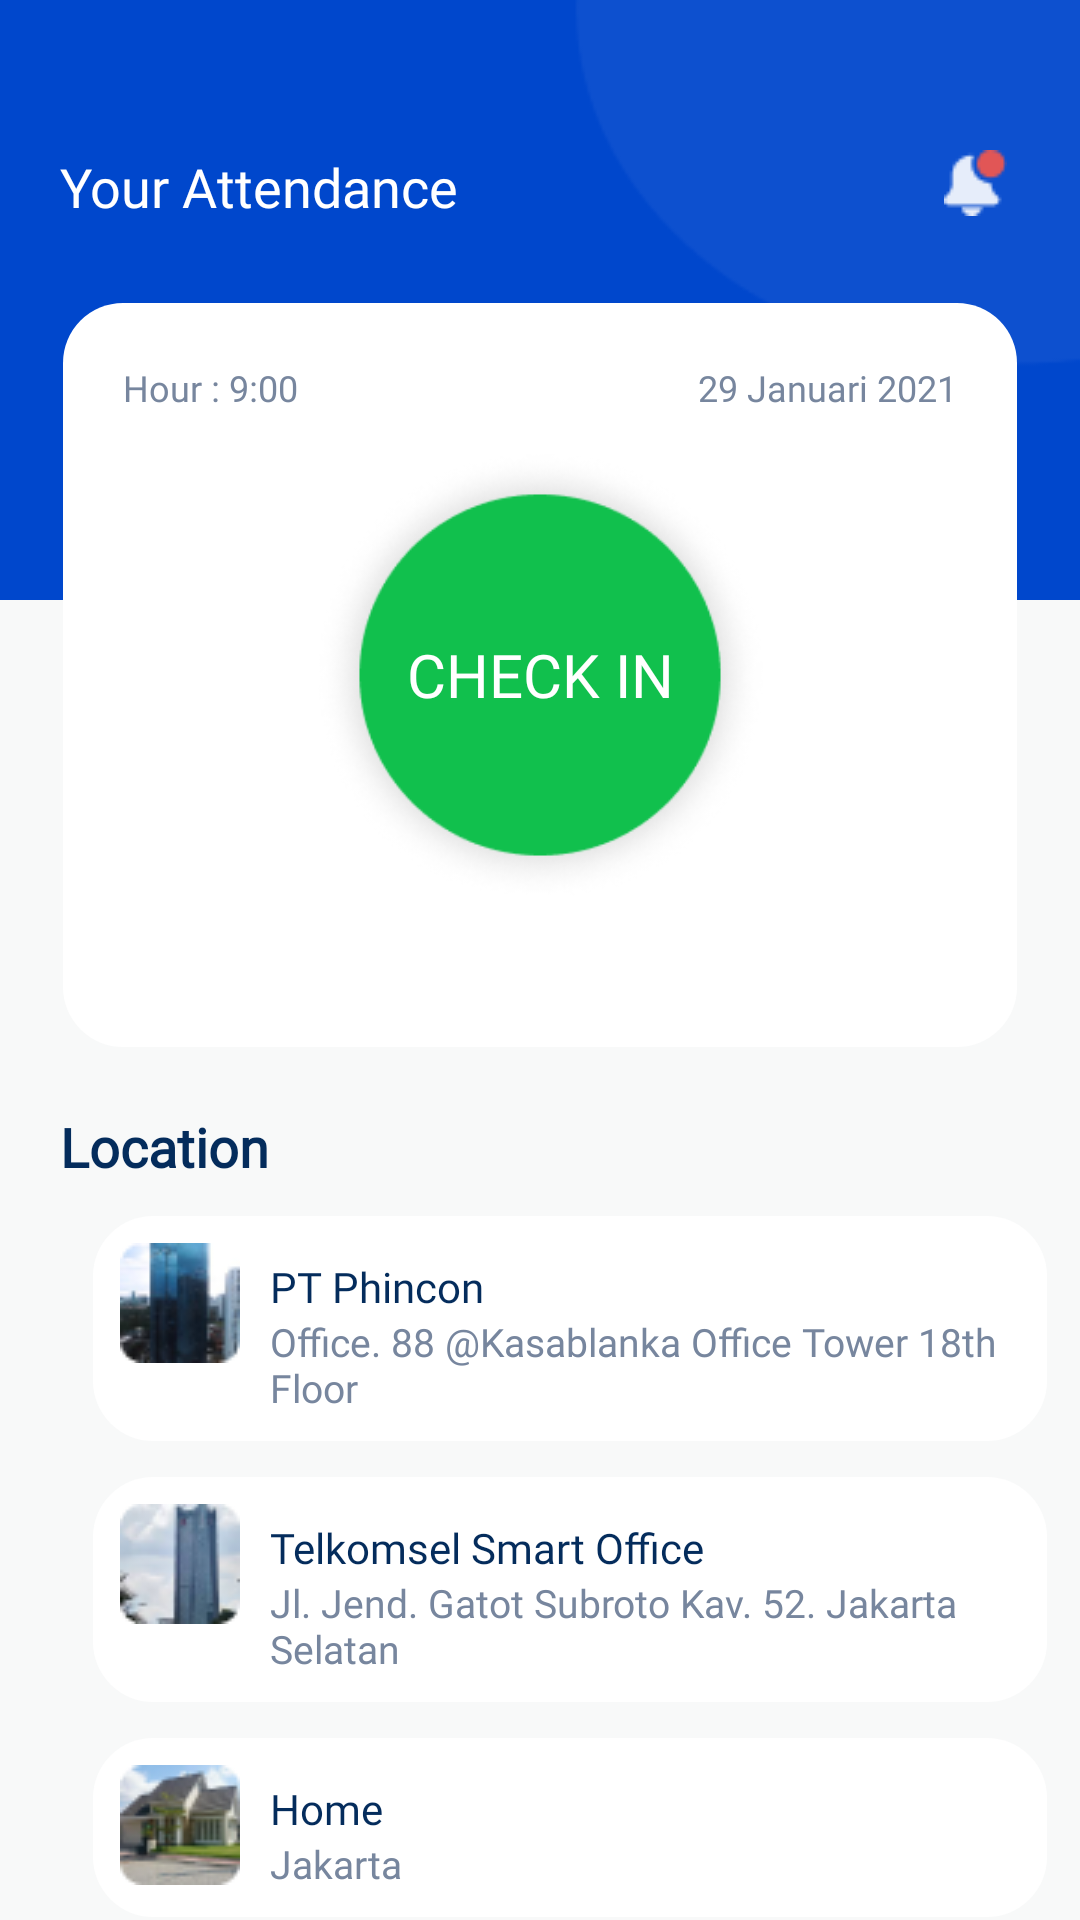

Where to tap for icons on this 1080 × 1920 app screen, as (x,y):
notification: (975,183)
